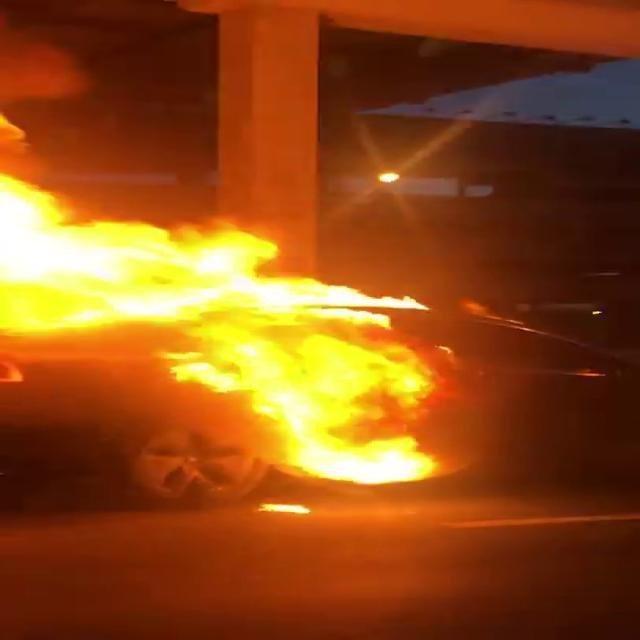Fire: (1, 117, 418, 340), (166, 306, 478, 492)
